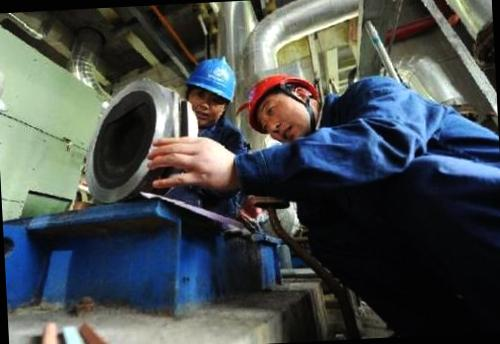person: (241, 63, 500, 342), (164, 52, 258, 228)
